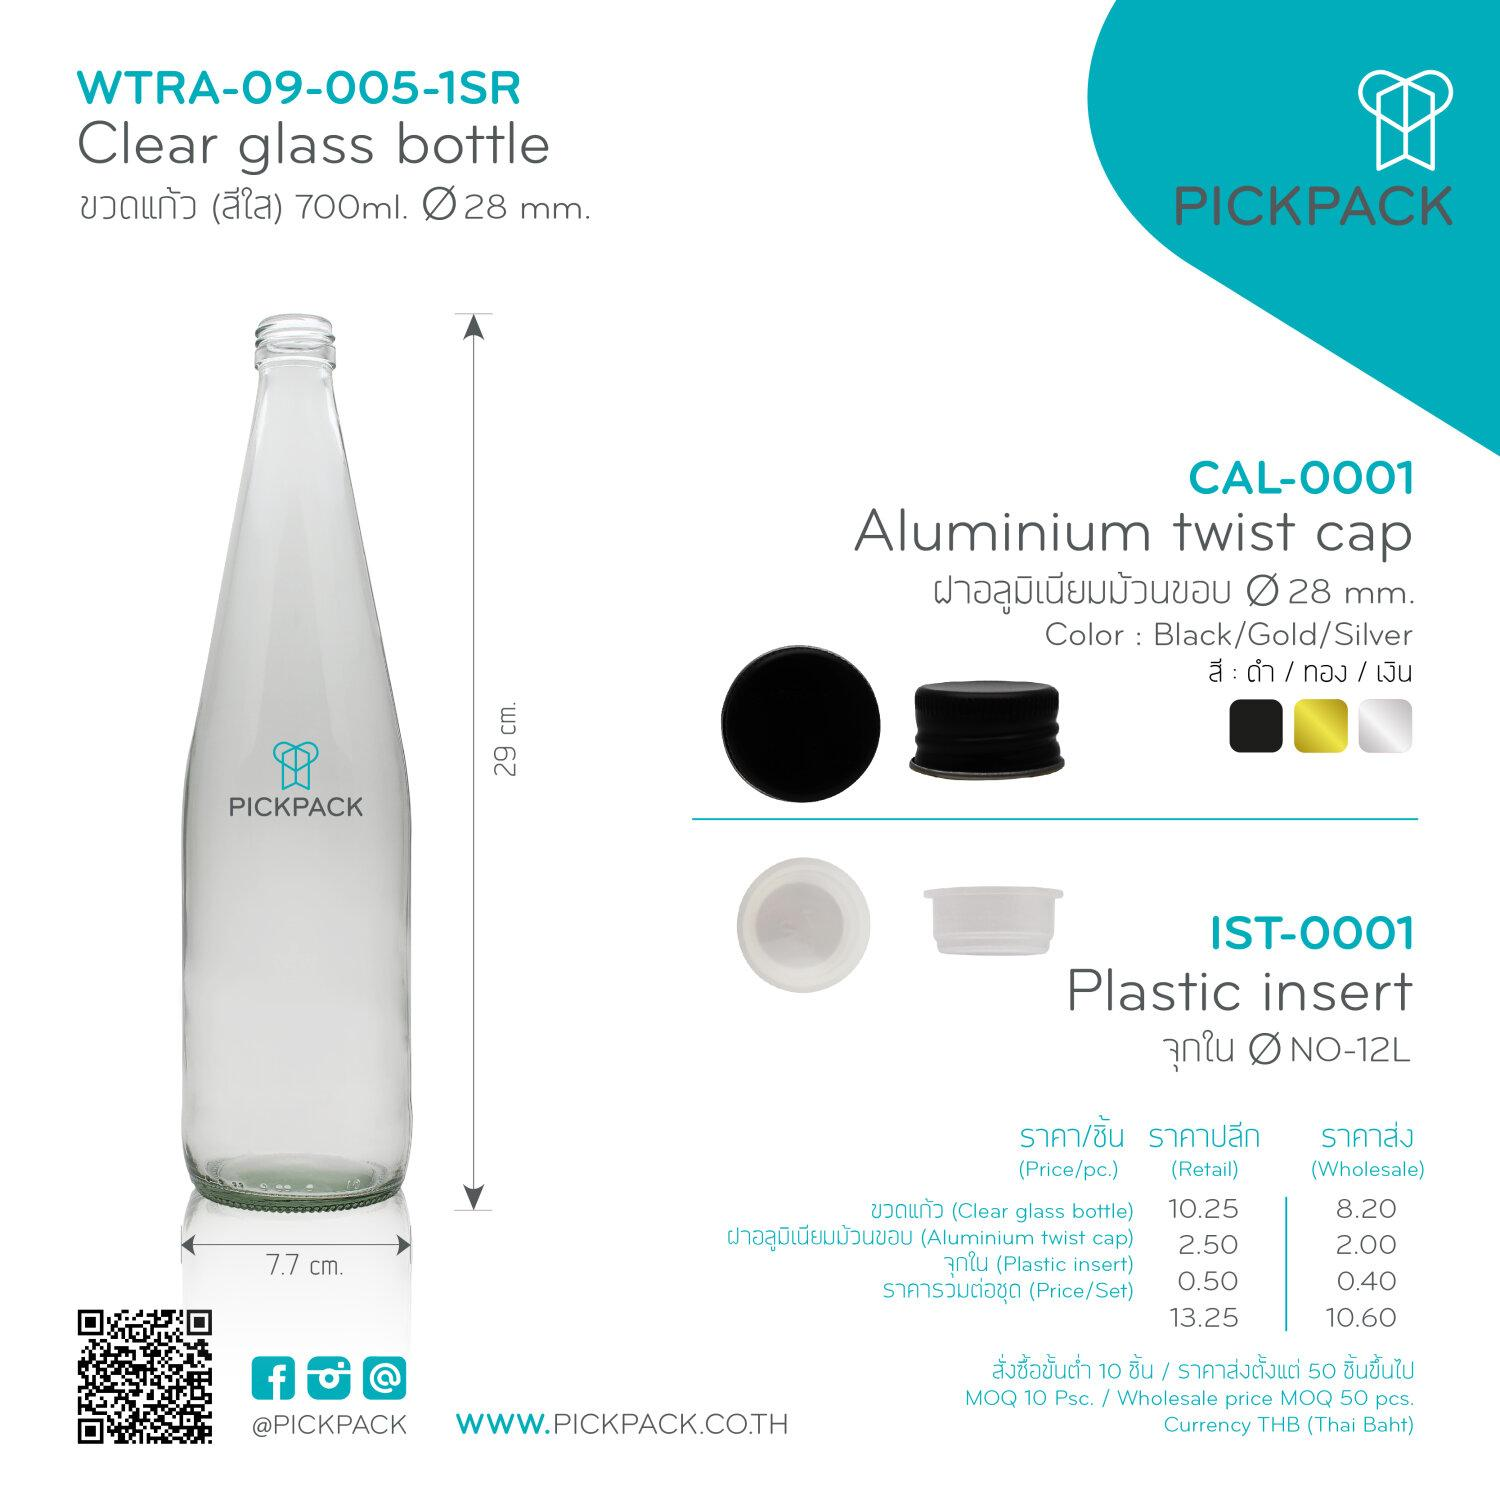glass_bottle: (170, 304, 431, 1212)
